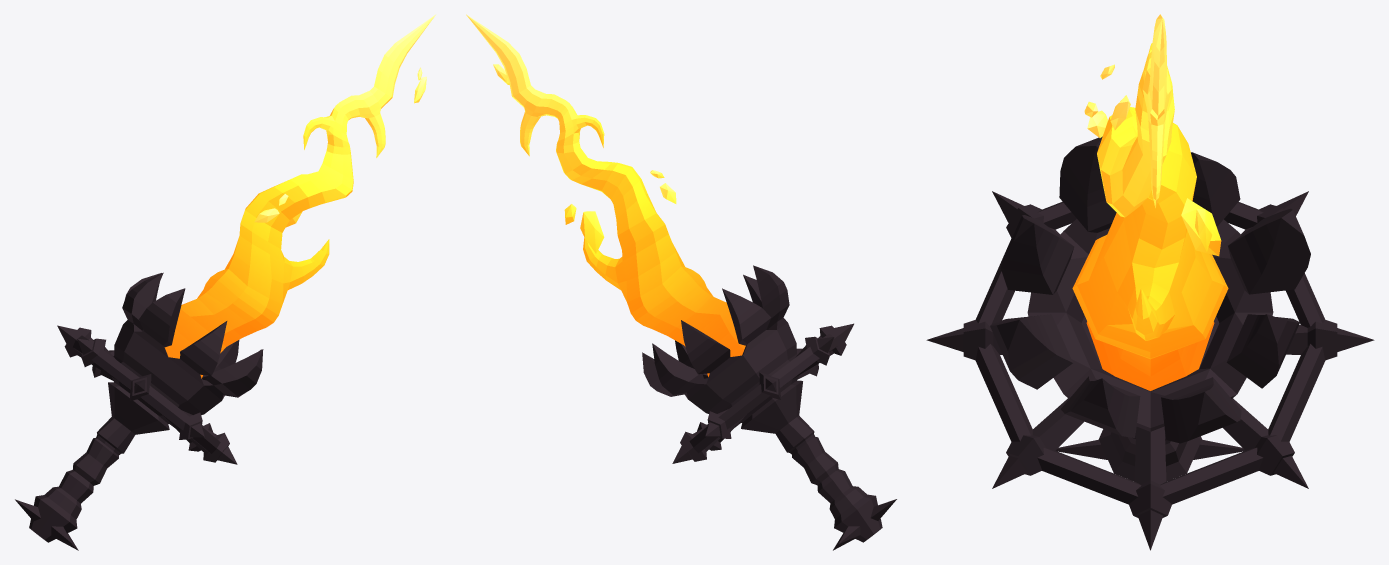
The model's file is admin-ewige-flamme.glb.
The picture shows the model from 3 angles, left to right: view 1: azimuth 30°, elevation 25°; view 2: azimuth 150°, elevation 25°; view 3: azimuth 270°, elevation 25°; orthographic projection. The views are drawn at different scales.
Parts seen in each view (by area): view 1: Cylinder.002; view 2: Cylinder.002; view 3: Cylinder.002.
Boxes of the visible parts, box(x1,y1,x2,y2) form: Cylinder.002: box(15, 14, 435, 550); Cylinder.002: box(466, 14, 896, 550); Cylinder.002: box(926, 14, 1374, 550).
Size of the model in its own units: 248 by 249 by 116.
Materials: 2 (1 with a texture image).
